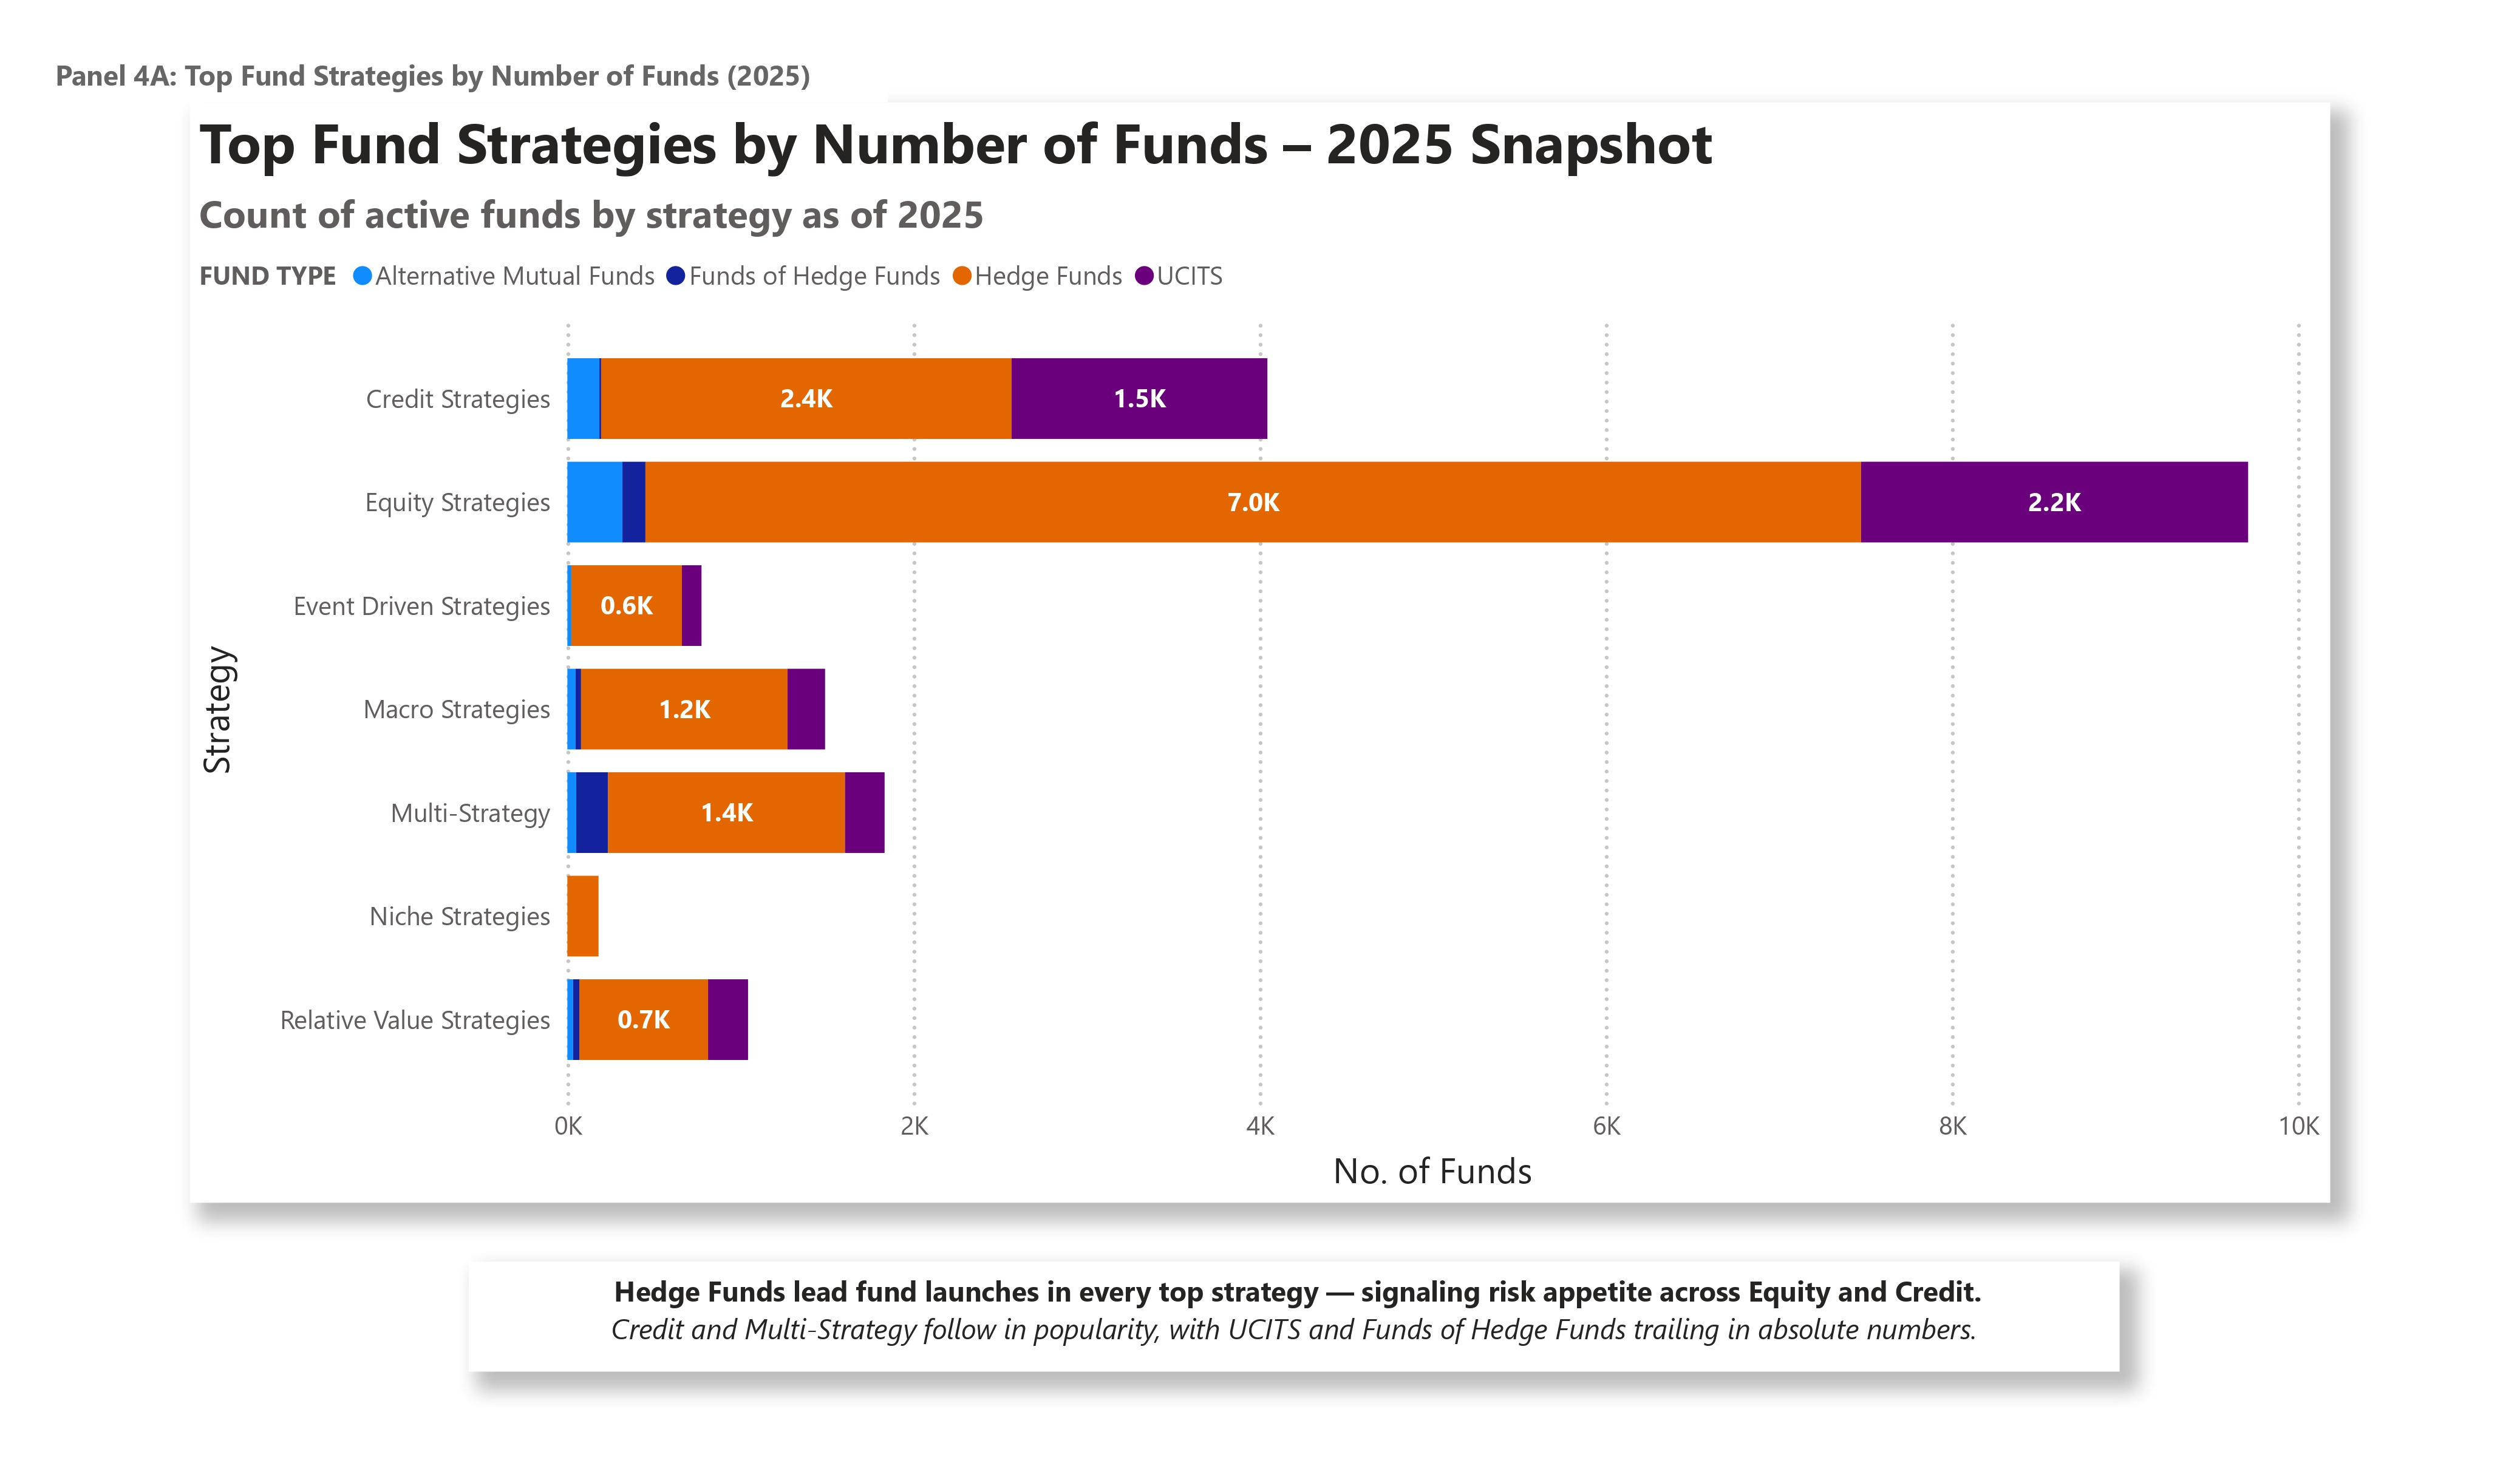

What the dashboard file says about the page in this screenshot:
{"tool":"powerbi","page":{"name":"panel-4a_top-fund-strategies_by-number-of-funds_2025","canvas":[1280,720],"ordinal":9},"visuals":[{"type":"barChart","title":"Top Fund Strategies by Number of Funds – 2025 Snapshot","fields":{"Category":["2025StrategyFinal.STRATEGY"],"Y":["Sum(2025StrategyFinal.Count)"],"Series":["2025StrategyFinal.FUND TYPE"]},"box":[76.2,30,1127.5,580],"z":0},{"type":"textbox","box":[222.5,641.2,870,57.5],"z":1000},{"type":"textbox","box":[0,0,443.8,30],"z":2000}]}

Visuals, with their boxes on the page's 1280x720 design canvas (x1, y1, x2, y2). These are canvas units, not pixel positions in the 2520x1457 screenshot, which may show the page scaled, cropped or inside an application window:
"Top Fund Strategies by Number of Funds – 2025 Snapshot" barChart: [x1=76, y1=30, x2=1204, y2=610]
textbox: [x1=222, y1=641, x2=1092, y2=699]
textbox: [x1=0, y1=0, x2=444, y2=30]
